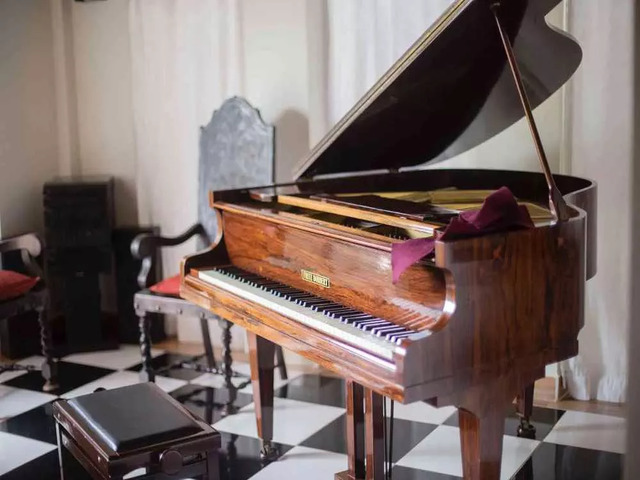Piano: (179, 1, 605, 478)
